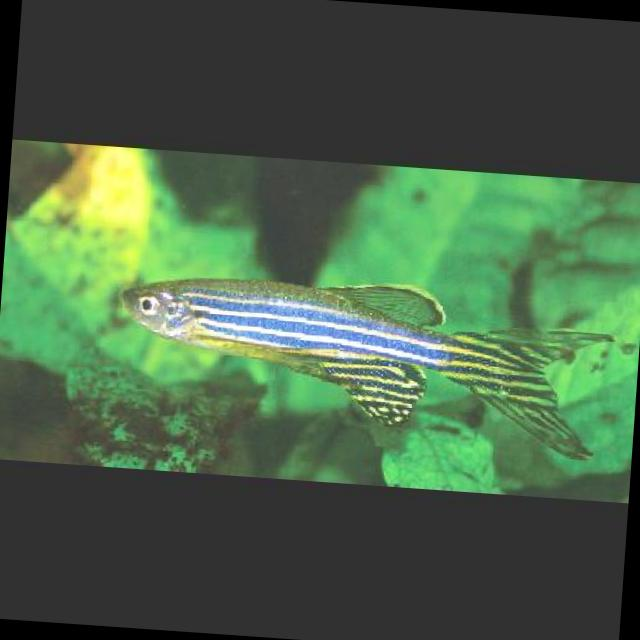ZebraFish: (115, 266, 472, 422)
